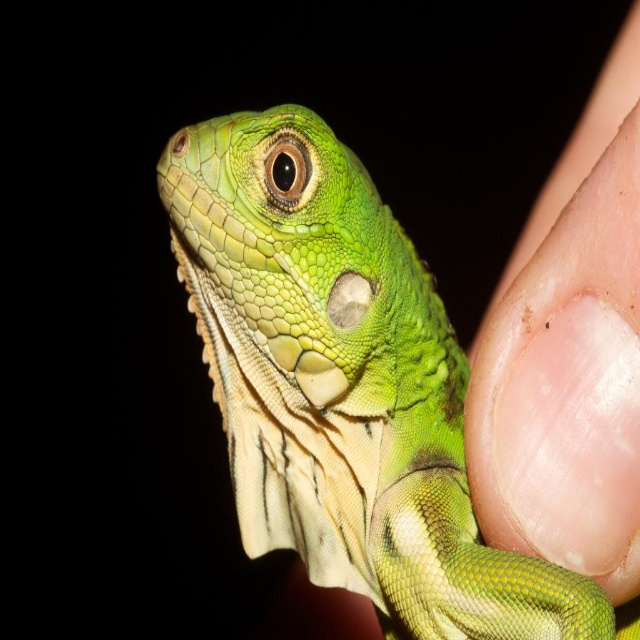Lizard: (183, 104, 621, 626)
